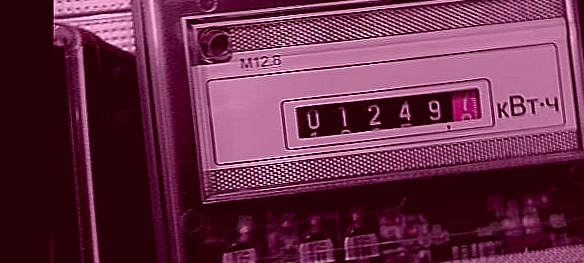0: (303, 101, 322, 127)
1: (335, 100, 350, 125)
2: (365, 99, 385, 125)
4: (397, 93, 415, 120)
7: (457, 86, 472, 110)
9: (426, 93, 444, 119)
screen: (275, 76, 509, 153)
